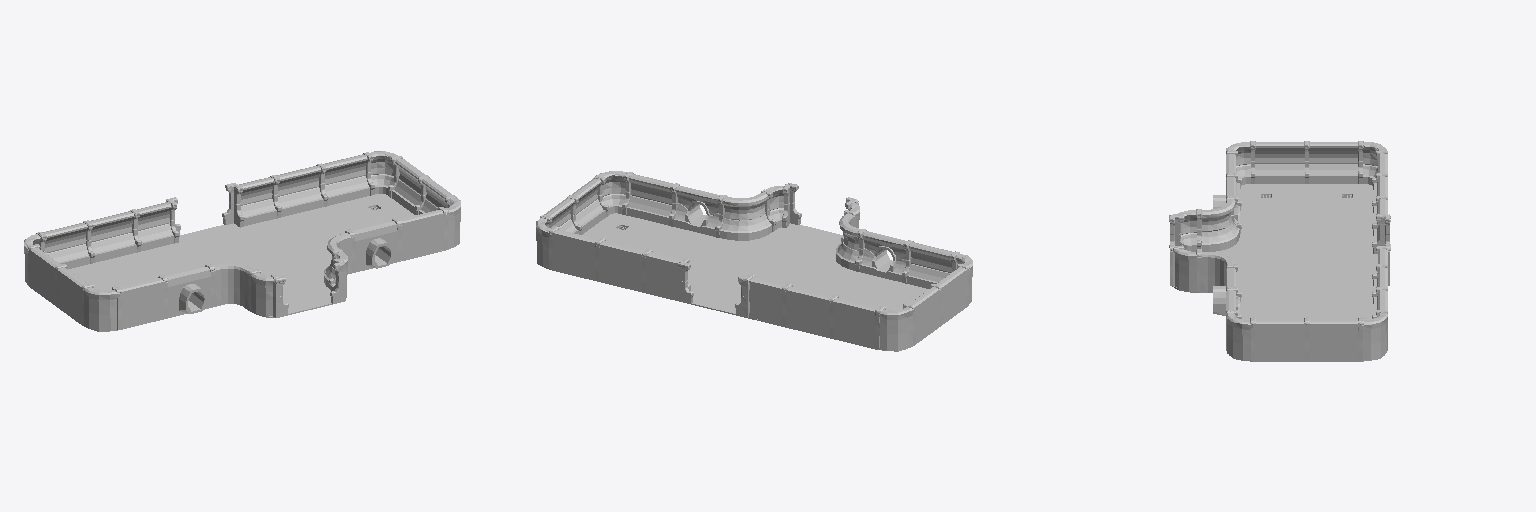
Rendered from DungeonRoom_01.obj.
3 renders of one model, left to right at view 1: azimuth 30°, elevation 25°; view 2: azimuth 150°, elevation 25°; view 3: azimuth 270°, elevation 25°, orthographic.
Parts seen in each view (by area): view 1: DungeonRoom_01; view 2: DungeonRoom_01; view 3: DungeonRoom_01.
Boxes of the visible parts, x1,y1,x2,y2 form: DungeonRoom_01: [24, 151, 460, 331]; DungeonRoom_01: [536, 171, 972, 351]; DungeonRoom_01: [1169, 141, 1390, 361].
Bounding box in the file's own units: 64.17 × 8.22 × 32.91.